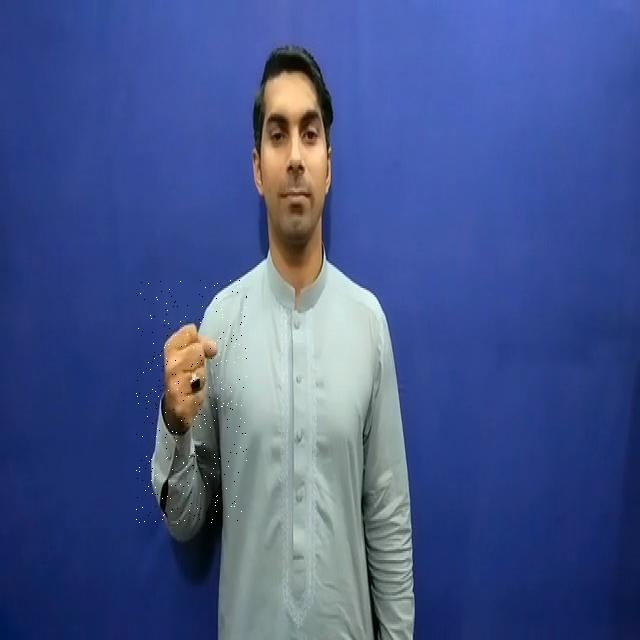milk: (136, 280, 247, 524)
